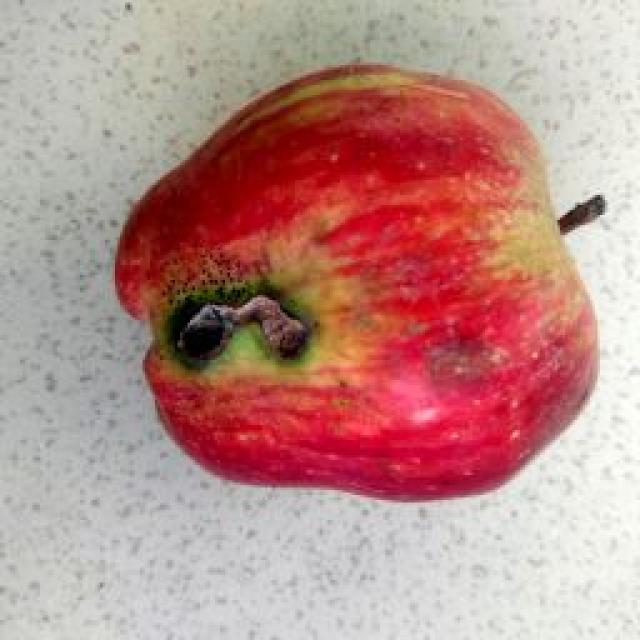Bad_Apple: (118, 66, 596, 498)
